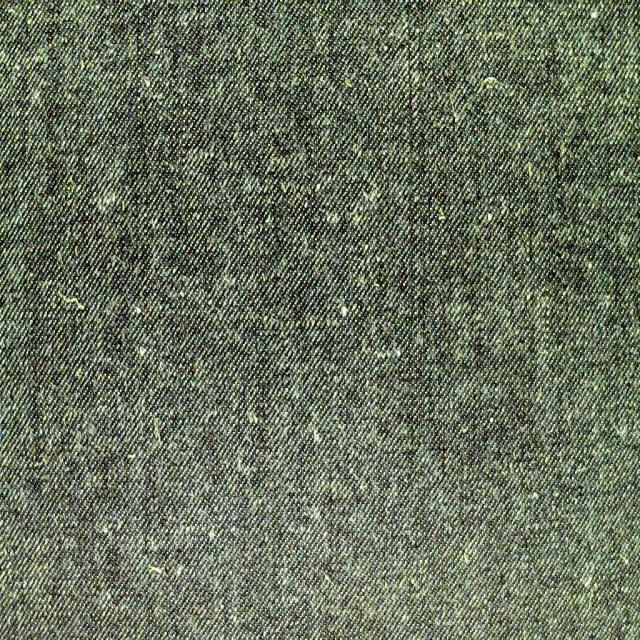pulled_or_thick_thread: (255, 309, 343, 336)
